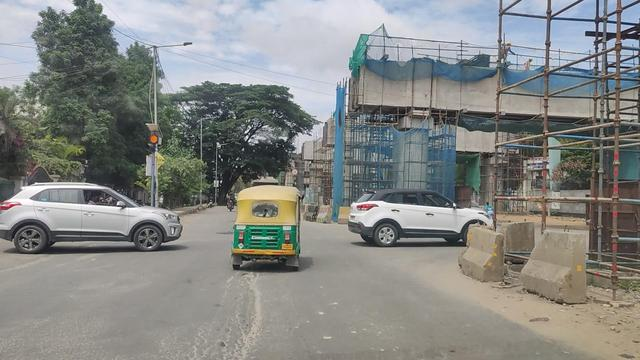LMV: (1, 182, 183, 242), (352, 189, 482, 241), (235, 182, 296, 258)
RoadDamages: (192, 312, 262, 360)
